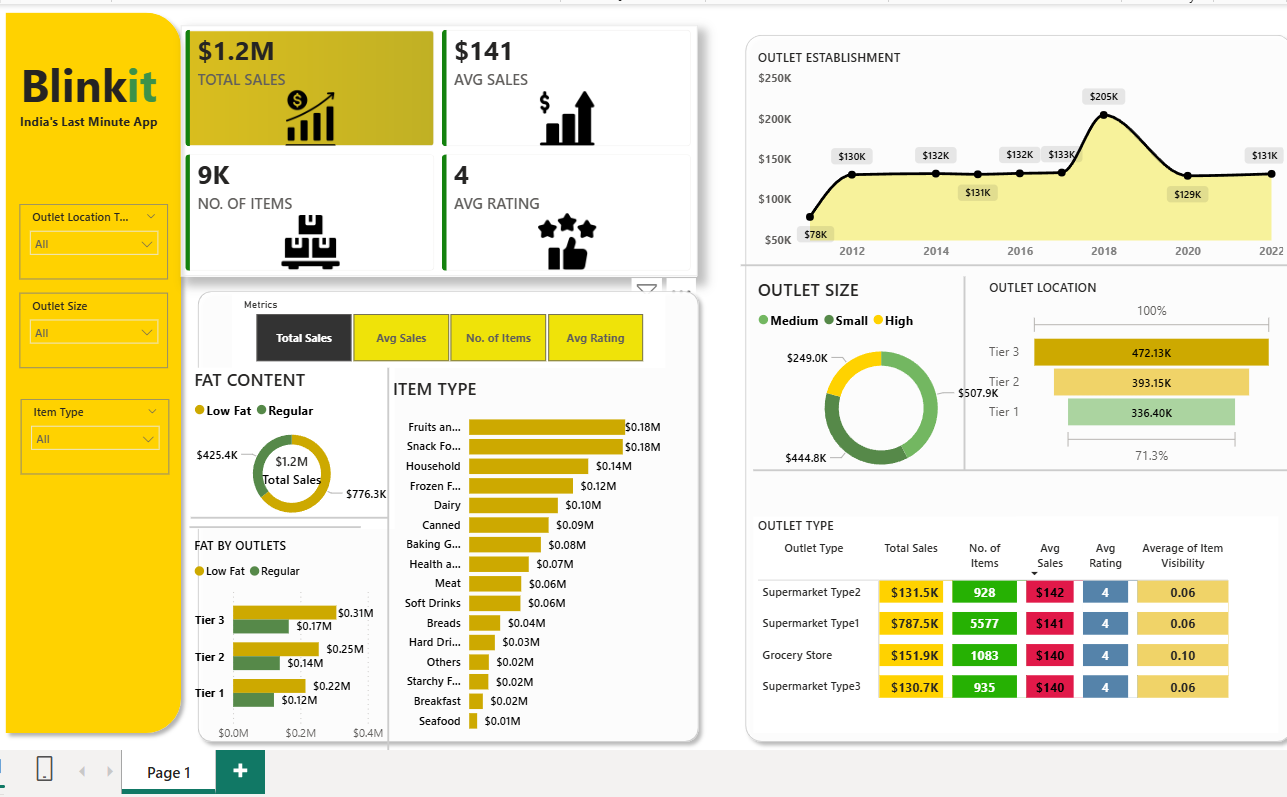

What the dashboard file says about the page in this screenshot:
{"tool":"powerbi","page":{"name":"Page 1","canvas":[1400,800],"ordinal":0},"visuals":[{"type":"shape","box":[0,0,206.4,790.9],"z":0},{"type":"textbox","box":[20.1,48.3,222.5,95.2],"z":1000},{"type":"textbox","box":[0,111.3,197.1,55],"z":2000},{"type":"cardVisual","fields":{"Data":["BlinkIT Grocery Data.Total Sales","BlinkIT Grocery Data.Avg Sales","BlinkIT Grocery Data.No. of Items","BlinkIT Grocery Data.Avg Rating"]},"box":[197.1,22.8,553.6,269.4],"z":3000},{"type":"shape","box":[206.4,298.9,555,501.3],"z":4000},{"type":"donutChart","title":"FAT CONTENT","fields":{"Y":["BlinkIT Grocery Data.Total Sales"],"Category":["BlinkIT Grocery Data.Item Fat Content"]},"box":[206.4,390.1,219.8,172.9],"z":5000},{"type":"slicer","fields":{"Values":["Metrics.Metrics"]},"box":[252,311,465.1,79.1],"z":6000},{"type":"cardVisual","fields":{"Data":["BlinkIT Grocery Data.Total Sales"]},"box":[242.6,463.8,147.5,72.4],"z":7000},{"type":"clusteredBarChart","title":"FAT BY OUTLETS","fields":{"Y":["BlinkIT Grocery Data.Total Sales"],"Category":["BlinkIT Grocery Data.Outlet Location Type"],"Series":["BlinkIT Grocery Data.Item Fat Content"]},"box":[206.4,571,219.8,229.2],"z":8000},{"type":"shape","box":[206.4,550.9,183.6,20.1],"z":9000},{"type":"shape","box":[309.7,390.1,219.8,410.2],"z":10000},{"type":"barChart","title":"ITEM TYPE","fields":{"Y":["BlinkIT Grocery Data.Total Sales"],"Category":["BlinkIT Grocery Data.Item Type"]},"box":[419.6,399.5,297.6,391.4],"z":11000},{"type":"shape","box":[793.6,24.1,605.9,776.1],"z":12000},{"type":"lineChart","title":"OUTLET ESTABLISHMENT","fields":{"Y":["BlinkIT Grocery Data.Total Sales"],"Category":["BlinkIT Grocery Data.Outlet Establishment Year"]},"box":[811,48.3,575.1,234.6],"z":13000},{"type":"shape","box":[207.8,538.9,211.8,24.1],"z":14000},{"type":"shape","box":[797.6,261.4,588.5,37.5],"z":15000},{"type":"donutChart","title":"OUTLET SIZE","fields":{"Y":["BlinkIT Grocery Data.Total Sales"],"Category":["BlinkIT Grocery Data.Outlet Size"]},"box":[811,293.6,274.8,225.2],"z":16000},{"type":"shape","box":[989.3,292.2,96.5,207.8],"z":17000},{"type":"funnel","title":"OUTLET LOCATION","fields":{"Y":["Sum(BlinkIT Grocery Data.Sales)"],"Category":["BlinkIT Grocery Data.Outlet Location Type"]},"box":[1059,294.9,315,203.8],"z":18000},{"type":"shape","box":[811,481.2,588.5,37.5],"z":19000},{"type":"pivotTable","title":"OUTLET TYPE","fields":{"Rows":["BlinkIT Grocery Data.Outlet Type"],"Values":["BlinkIT Grocery Data.Total Sales","BlinkIT Grocery Data.No. of Items","BlinkIT Grocery Data.Avg Sales","BlinkIT Grocery Data.Avg Rating","Avg(BlinkIT Grocery Data.Item Visibility)"]},"box":[811,549.6,563,231.9],"z":20000},{"type":"slicer","fields":{"Values":["BlinkIT Grocery Data.Outlet Location Type"]},"box":[24.1,214.5,159.5,80.4],"z":21000},{"type":"slicer","fields":{"Values":["BlinkIT Grocery Data.Item Type"]},"box":[25.5,423.6,159.5,80.4],"z":22000},{"type":"slicer","fields":{"Values":["BlinkIT Grocery Data.Outlet Size"]},"box":[24.1,309.7,159.5,80.4],"z":23000}]}

Visuals, with their boxes on the page's 1400x800 design canvas (x1, y1, x2, y2). These are canvas units, not pixel positions in the 1287x797 screenshot, which may show the page scaled, cropped or inside an application window:
shape: bbox=[0, 0, 206, 791]
textbox: bbox=[20, 48, 243, 144]
textbox: bbox=[0, 111, 197, 166]
cardVisual - BlinkIT Grocery Data.Total Sales x BlinkIT Grocery Data.Avg Sales: bbox=[197, 23, 751, 292]
shape: bbox=[206, 299, 761, 800]
"FAT CONTENT" donutChart: bbox=[206, 390, 426, 563]
slicer - Metrics.Metrics: bbox=[252, 311, 717, 390]
cardVisual - BlinkIT Grocery Data.Total Sales: bbox=[243, 464, 390, 536]
"FAT BY OUTLETS" clusteredBarChart: bbox=[206, 571, 426, 800]
shape: bbox=[206, 551, 390, 571]
shape: bbox=[310, 390, 530, 800]
"ITEM TYPE" barChart: bbox=[420, 400, 717, 791]
shape: bbox=[794, 24, 1400, 800]
"OUTLET ESTABLISHMENT" lineChart: bbox=[811, 48, 1386, 283]
shape: bbox=[208, 539, 420, 563]
shape: bbox=[798, 261, 1386, 299]
"OUTLET SIZE" donutChart: bbox=[811, 294, 1086, 519]
shape: bbox=[989, 292, 1086, 500]
"OUTLET LOCATION" funnel: bbox=[1059, 295, 1374, 499]
shape: bbox=[811, 481, 1400, 519]
"OUTLET TYPE" pivotTable: bbox=[811, 550, 1374, 782]
slicer - BlinkIT Grocery Data.Outlet Location Type: bbox=[24, 214, 184, 295]
slicer - BlinkIT Grocery Data.Item Type: bbox=[26, 424, 185, 504]
slicer - BlinkIT Grocery Data.Outlet Size: bbox=[24, 310, 184, 390]
